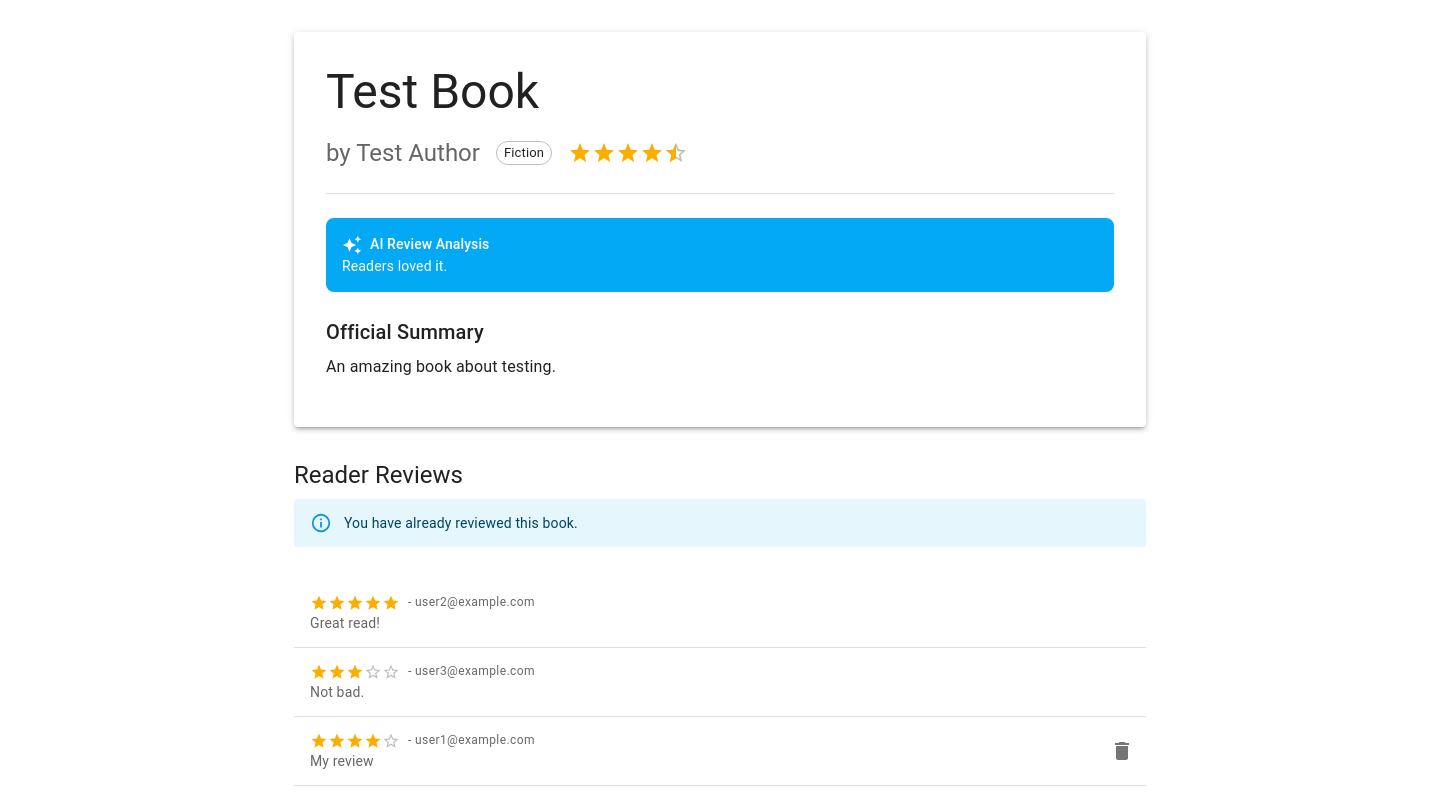
Scenario: BookDetail Page › allows a user to delete their own review
Click the button named "delete". click: (1122, 751)
box: [1102,731,1142,771]
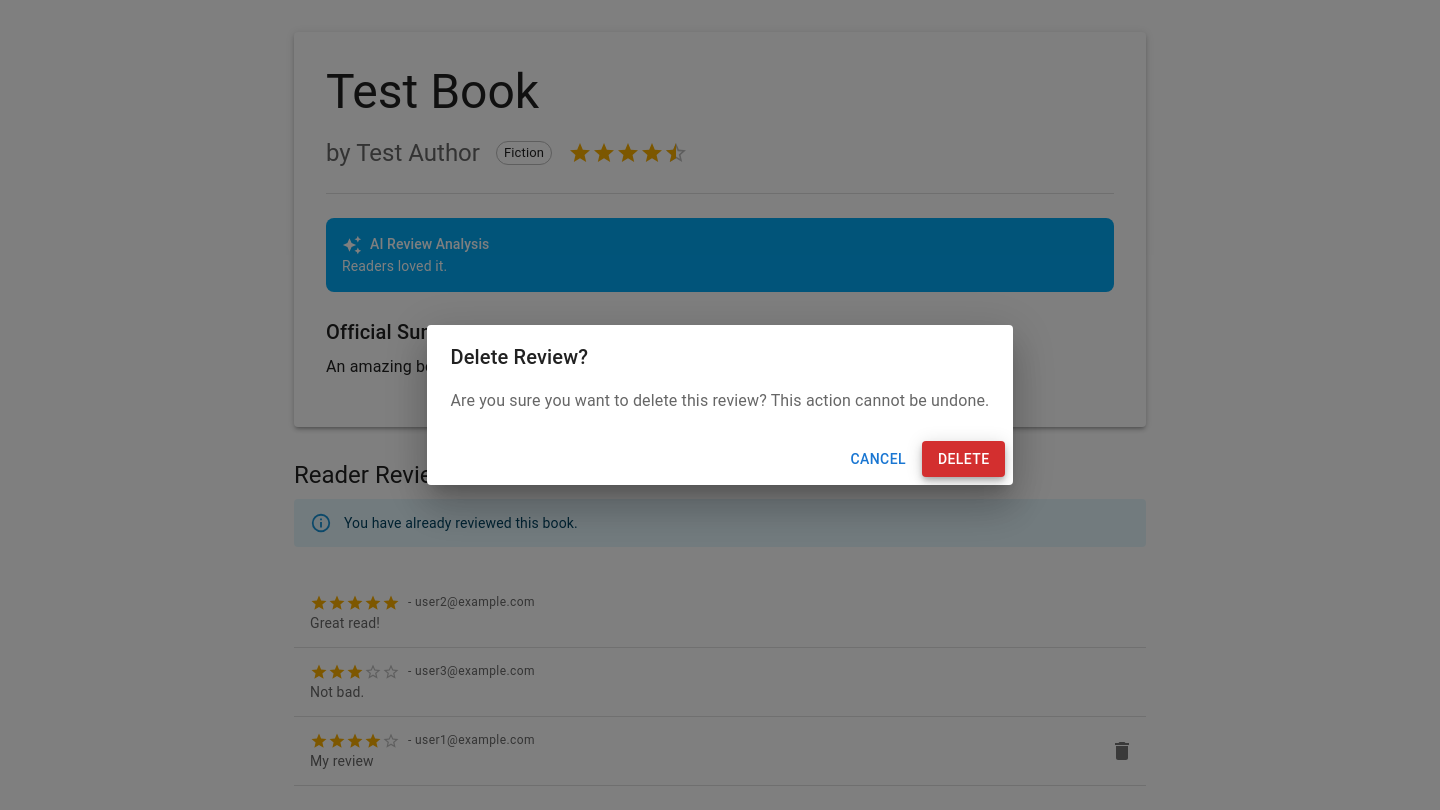
expect the dialog is shown: met, box [426,325,1014,485]
Click the button "Delete". click: (964, 459)
box: [922,441,1006,477]
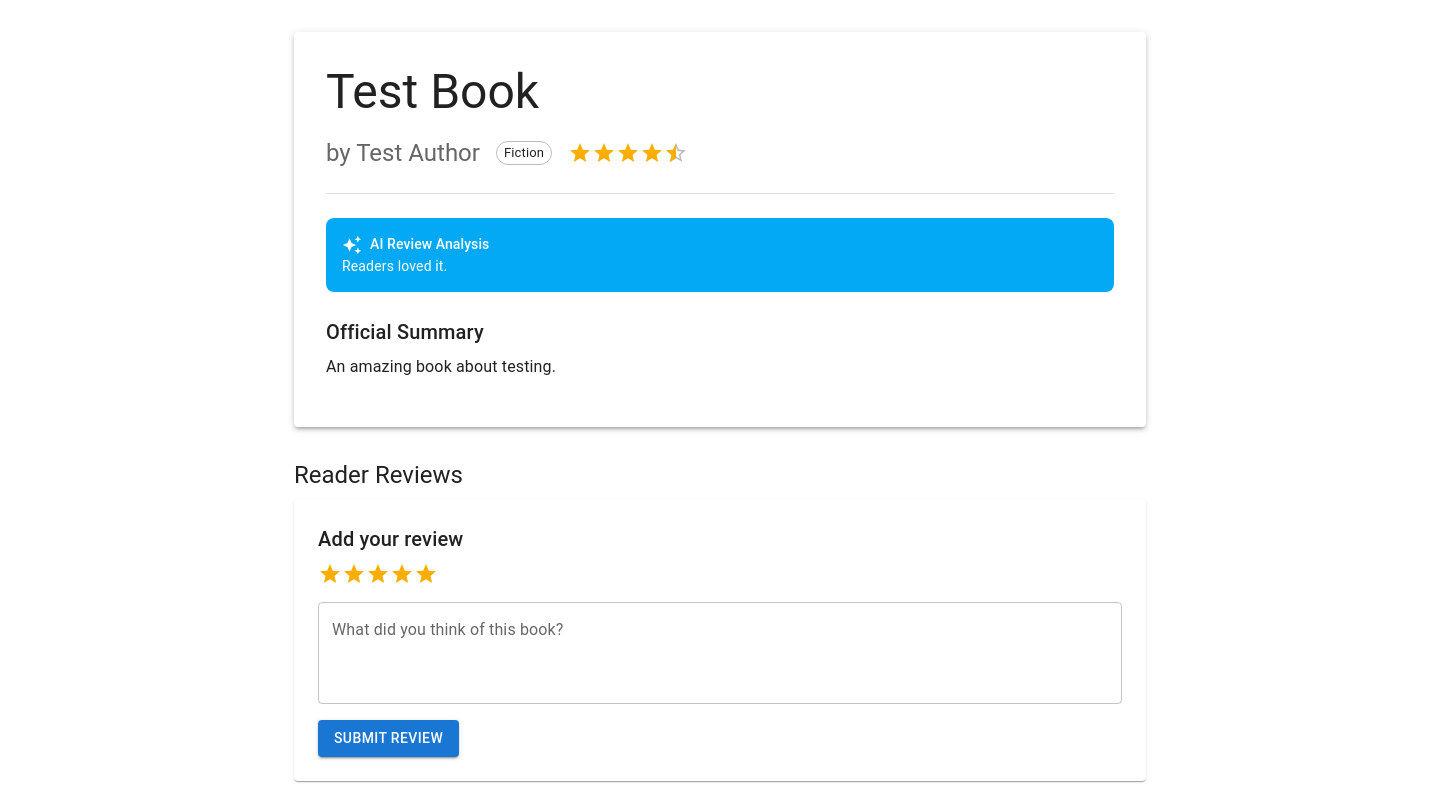
expect the text "My review" is gone: met
